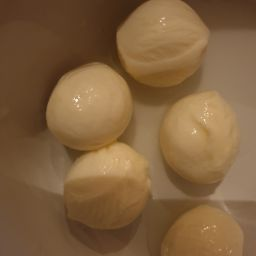Mini Mozzarella Cheese: (33, 5, 256, 256), (53, 142, 160, 238), (37, 61, 139, 154), (162, 92, 248, 195), (124, 3, 216, 81), (150, 203, 254, 256)
